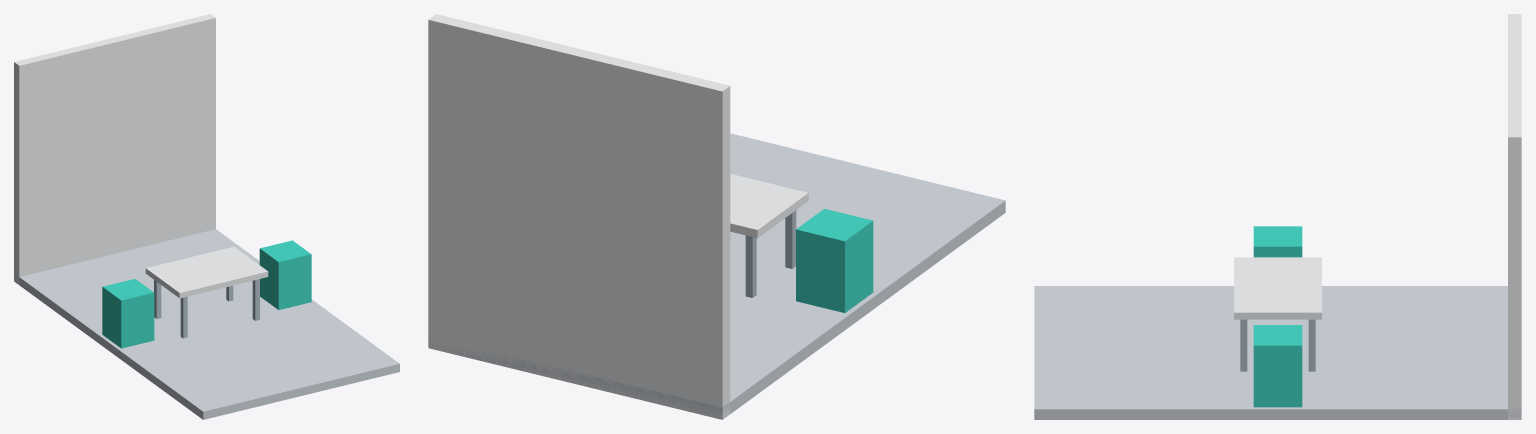
3 views of the same model, side by side, from view 1: azimuth 30°, elevation 25°; view 2: azimuth 150°, elevation 25°; view 3: azimuth 270°, elevation 25° (orthographic). The views are drawn at different scales.
Visible parts, largest first — view 1: Exhibition Booth Concept; view 2: Exhibition Booth Concept; view 3: Exhibition Booth Concept.
Part boxes in pixels (x1,y1,x2,y2): Exhibition Booth Concept: (14, 14, 399, 419); Exhibition Booth Concept: (428, 14, 1005, 419); Exhibition Booth Concept: (1034, 14, 1521, 419).
Size of the model in its own units: 3 by 3.2 by 5.
